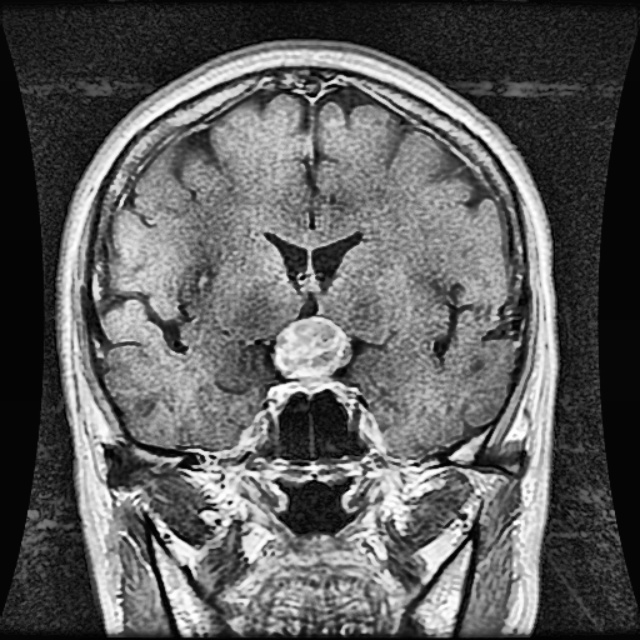Pituitary: (274, 315, 353, 379)
